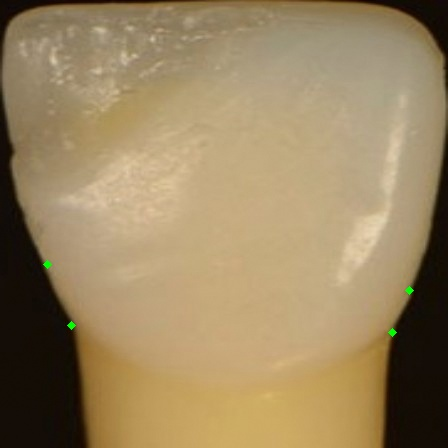coin_1: (71, 325, 91, 345)
coin_2: (47, 264, 67, 284)
coin_3: (392, 332, 412, 352)
coin_4: (409, 290, 429, 310)
